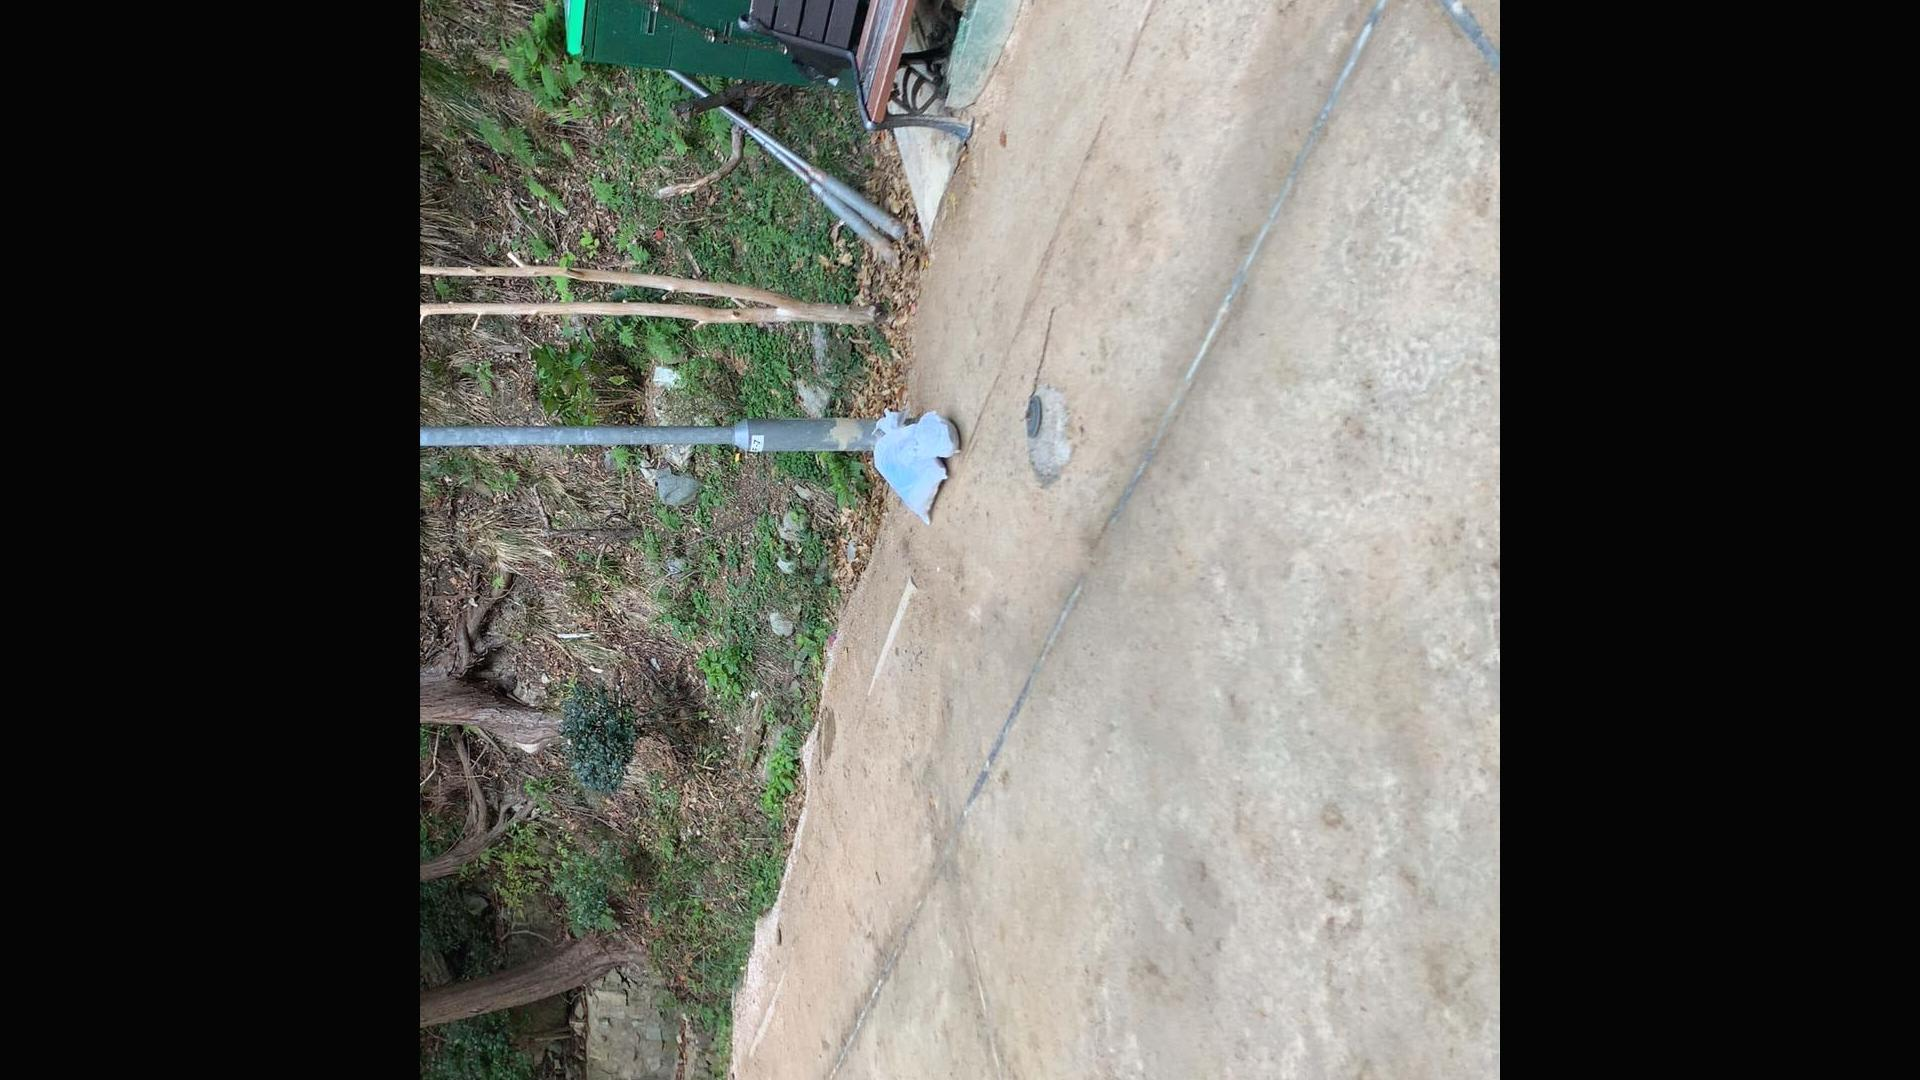white_bag: (868, 409, 948, 526), (907, 407, 963, 458)
